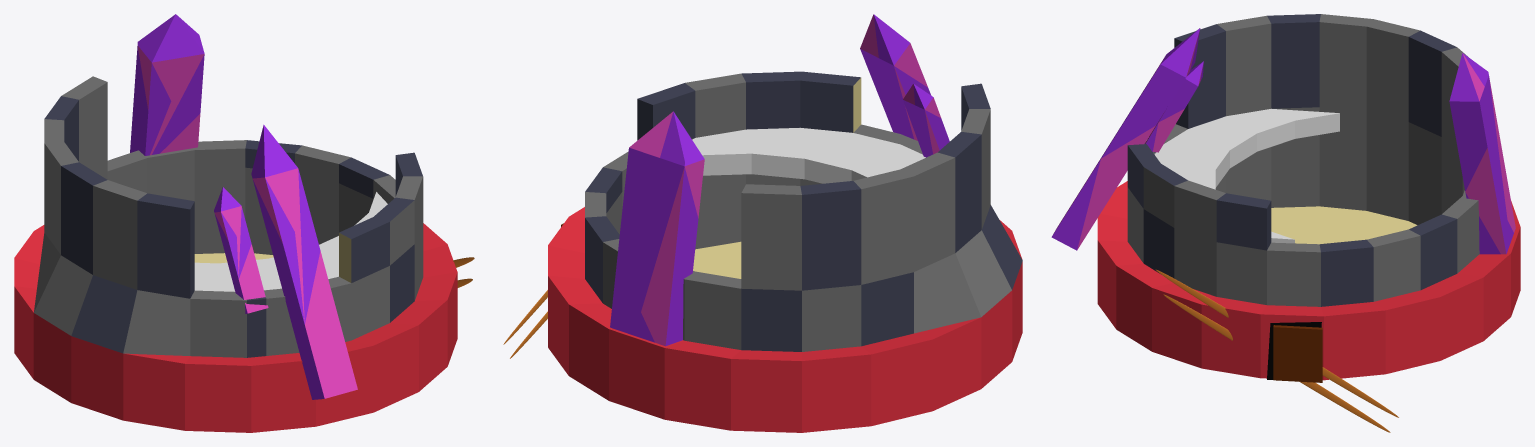
Rendered from Ecole v2..fbx.
3 views of the same model, side by side, from view 1: azimuth 30°, elevation 25°; view 2: azimuth 150°, elevation 25°; view 3: azimuth 270°, elevation 25° (orthographic). The views are drawn at different scales.
Visible parts, largest first — view 1: Cylinder.004, Cylinder.007, Cylinder.005, Cylinder.008; view 2: Cylinder.004, Cylinder.005, Cylinder.007, Cylinder.008; view 3: Cylinder.004, Cylinder.005, Cylinder.007, Cube.002, Cylinder.008, Sphere.007, Sphere.004, Cube.003.
Boxes of the visible parts, x1,y1,x2,y2 form: Cylinder.004: [14, 76, 457, 432]; Cylinder.007: [251, 124, 357, 399]; Cylinder.005: [130, 14, 204, 155]; Cylinder.008: [214, 187, 268, 313]; Cylinder.004: [548, 71, 1022, 432]; Cylinder.005: [610, 111, 704, 346]; Cylinder.007: [860, 14, 931, 140]; Cylinder.008: [903, 83, 949, 157]; Cylinder.004: [1097, 14, 1520, 380]; Cylinder.005: [1449, 53, 1515, 254]; Cylinder.007: [1051, 28, 1200, 250]; Cube.002: [1273, 325, 1322, 382]; Cylinder.008: [1145, 61, 1203, 152]; Sphere.007: [1163, 294, 1390, 432]; Sphere.004: [1155, 269, 1398, 417]; Cube.003: [1267, 322, 1321, 379].
Size of the model in its own units: 850 by 615 by 891.
